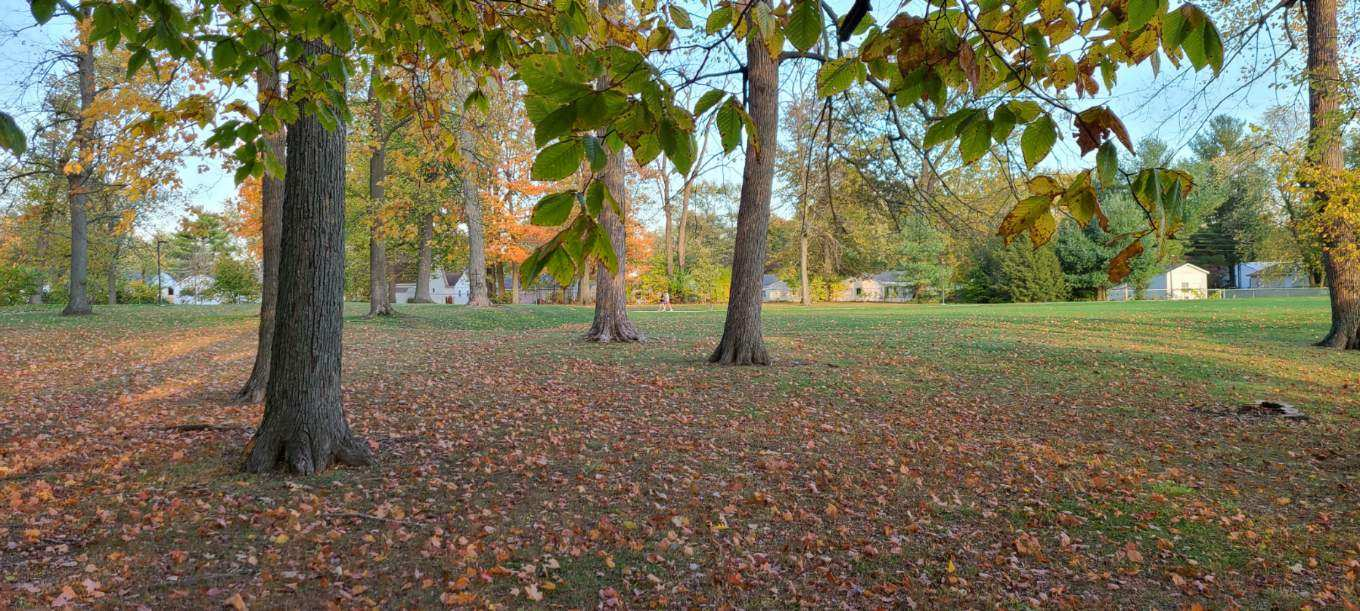tree: (240, 1, 371, 473), (717, 2, 783, 367), (587, 1, 639, 343), (1308, 1, 1360, 341), (249, 5, 280, 403), (64, 3, 95, 315), (369, 1, 399, 314), (416, 131, 435, 302), (464, 166, 484, 306)
